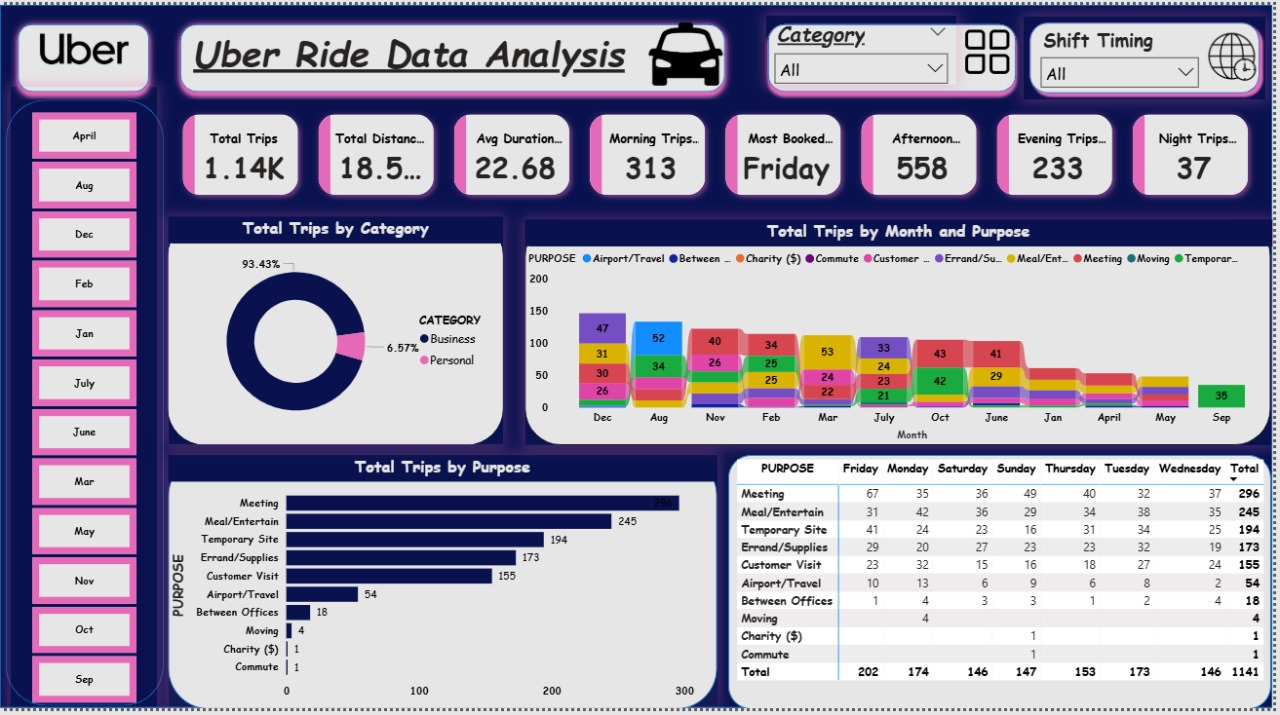

This screenshot's page, from the dashboard's own definition file:
{"tool":"powerbi","page":{"name":"Uber_Dashboard","canvas":[1501,830],"ordinal":1},"visuals":[{"type":"shape","box":[0,0,1500,829.3],"z":0},{"type":"shape","box":[6.9,112.1,186.2,715.5],"z":1000},{"type":"shape","box":[12.5,14.6,172.9,97.9],"z":2000},{"type":"shape","box":[204.2,14.6,660.4,97.9],"z":3000},{"type":"shape","box":[895.8,14.6,310.4,97.9],"z":4000},{"type":"shape","box":[1206.2,14.6,285.4,97.9],"z":5000},{"type":"shape","box":[198.3,253.4,394.8,265.5],"z":6000},{"type":"shape","box":[618.9,252.8,879.2,266],"z":7000},{"type":"shape","box":[198.1,530.2,647.2,300],"z":8000},{"type":"shape","box":[857.8,531.1,640,300],"z":9000},{"type":"image","box":[12.1,19,174.1,67.2],"z":10000},{"type":"textbox","box":[222.4,20.7,527.6,74.1],"z":11000},{"type":"image","box":[732.8,0,151.7,100],"z":12000},{"type":"slicer","fields":{"Values":["UberDatasetCleaned.CATEGORY"]},"box":[903.4,12.1,224.1,82.8],"z":13000},{"type":"image","box":[1120.7,12.1,86.2,86.2],"z":14000},{"type":"slicer","fields":{"Values":["UberDatasetCleaned.Day_time"]},"box":[1216.7,20.8,206.2,77.1],"z":15000},{"type":"slicer","fields":{"Values":["UberDatasetCleaned.Month"]},"box":[12.5,95.8,172.9,733.3],"z":17000},{"type":"cardVisual","fields":{"Data":["UberDatasetCleaned.Total Trips","UberDatasetCleaned.Total Distance (mi)","UberDatasetCleaned.Average Duration","UberDatasetCleaned.Morning Trips Count","UberDatasetCleaned.Most Booked Day","UberDatasetCleaned.Afternoon Trips Count","UberDatasetCleaned.Evening Trips Count","UberDatasetCleaned.Night Trips Count"]},"box":[197.9,112.5,1293.8,129.2],"z":18000},{"type":"clusteredBarChart","title":"Total Trips by Purpose","fields":{"Category":["UberDatasetCleaned.PURPOSE"],"Y":["UberDatasetCleaned.Total Trips"]},"box":[198.1,530.2,647.2,298.1],"z":19000},{"type":"donutChart","title":"Total Trips by Category","fields":{"Category":["UberDatasetCleaned.CATEGORY"],"Y":["UberDatasetCleaned.Total Trips"]},"box":[198.3,250.8,394.9,267.8],"z":20000},{"type":"pivotTable","fields":{"Rows":["UberDatasetCleaned.PURPOSE"],"Columns":["UberDatasetCleaned.Day"],"Values":["UberDatasetCleaned.Total Trips"]},"box":[864.4,531.1,633.3,295.6],"z":21000},{"type":"ribbonChart","title":"Total Trips by Month and Purpose","fields":{"Category":["UberDatasetCleaned.Month"],"Y":["UberDatasetCleaned.Total Trips"],"Series":["UberDatasetCleaned.PURPOSE"]},"box":[618.9,252.8,881.1,266],"z":22000},{"type":"image","box":[1413.8,27.6,77.6,67.2],"z":22001}]}

Visuals, with their boxes in screenshot pixels (x1, y1, x2, y2), scaled from the page's 1501x830 canvas onto the 1280x715 screenshot:
shape: x1=0 y1=0 x2=1279 y2=714
shape: x1=6 y1=97 x2=165 y2=713
shape: x1=11 y1=13 x2=158 y2=97
shape: x1=174 y1=13 x2=737 y2=97
shape: x1=764 y1=13 x2=1029 y2=97
shape: x1=1029 y1=13 x2=1272 y2=97
shape: x1=169 y1=218 x2=506 y2=447
shape: x1=528 y1=218 x2=1278 y2=447
shape: x1=169 y1=457 x2=721 y2=714
shape: x1=732 y1=458 x2=1277 y2=714
image: x1=10 y1=16 x2=159 y2=74
textbox: x1=190 y1=18 x2=640 y2=82
image: x1=625 y1=0 x2=754 y2=86
slicer - UberDatasetCleaned.CATEGORY: x1=770 y1=10 x2=961 y2=82
image: x1=956 y1=10 x2=1029 y2=85
slicer - UberDatasetCleaned.Day_time: x1=1038 y1=18 x2=1213 y2=84
slicer - UberDatasetCleaned.Month: x1=11 y1=83 x2=158 y2=714
cardVisual - UberDatasetCleaned.Total Trips x UberDatasetCleaned.Total Distance (mi): x1=169 y1=97 x2=1272 y2=208
"Total Trips by Purpose" clusteredBarChart: x1=169 y1=457 x2=721 y2=714
"Total Trips by Category" donutChart: x1=169 y1=216 x2=506 y2=447
pivotTable - UberDatasetCleaned.PURPOSE x UberDatasetCleaned.Day: x1=737 y1=458 x2=1277 y2=712
"Total Trips by Month and Purpose" ribbonChart: x1=528 y1=218 x2=1279 y2=447
image: x1=1206 y1=24 x2=1272 y2=82
